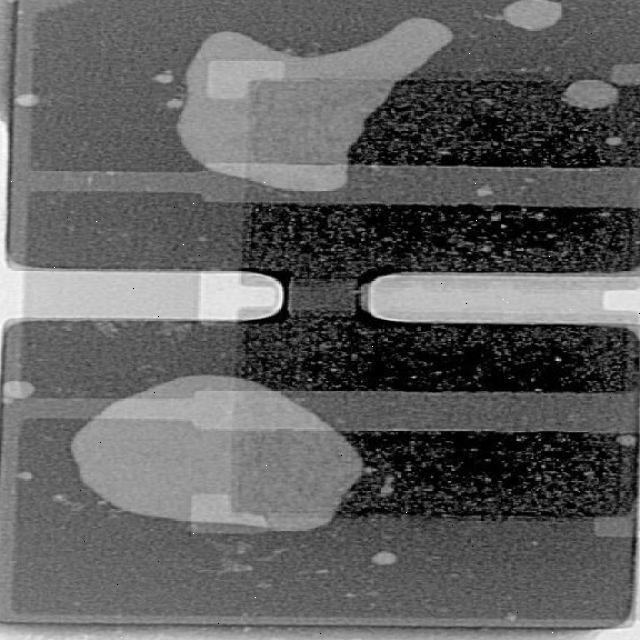Chip: (0, 0, 640, 628), (371, 551, 397, 566)
void: (177, 19, 450, 189), (70, 377, 362, 531), (339, 431, 637, 519), (4, 321, 246, 398), (493, 0, 562, 30), (561, 80, 618, 109), (4, 381, 33, 403), (371, 551, 397, 566), (14, 93, 38, 107), (153, 70, 173, 83), (617, 434, 634, 449), (166, 98, 183, 110), (477, 184, 492, 197), (607, 137, 621, 144)
